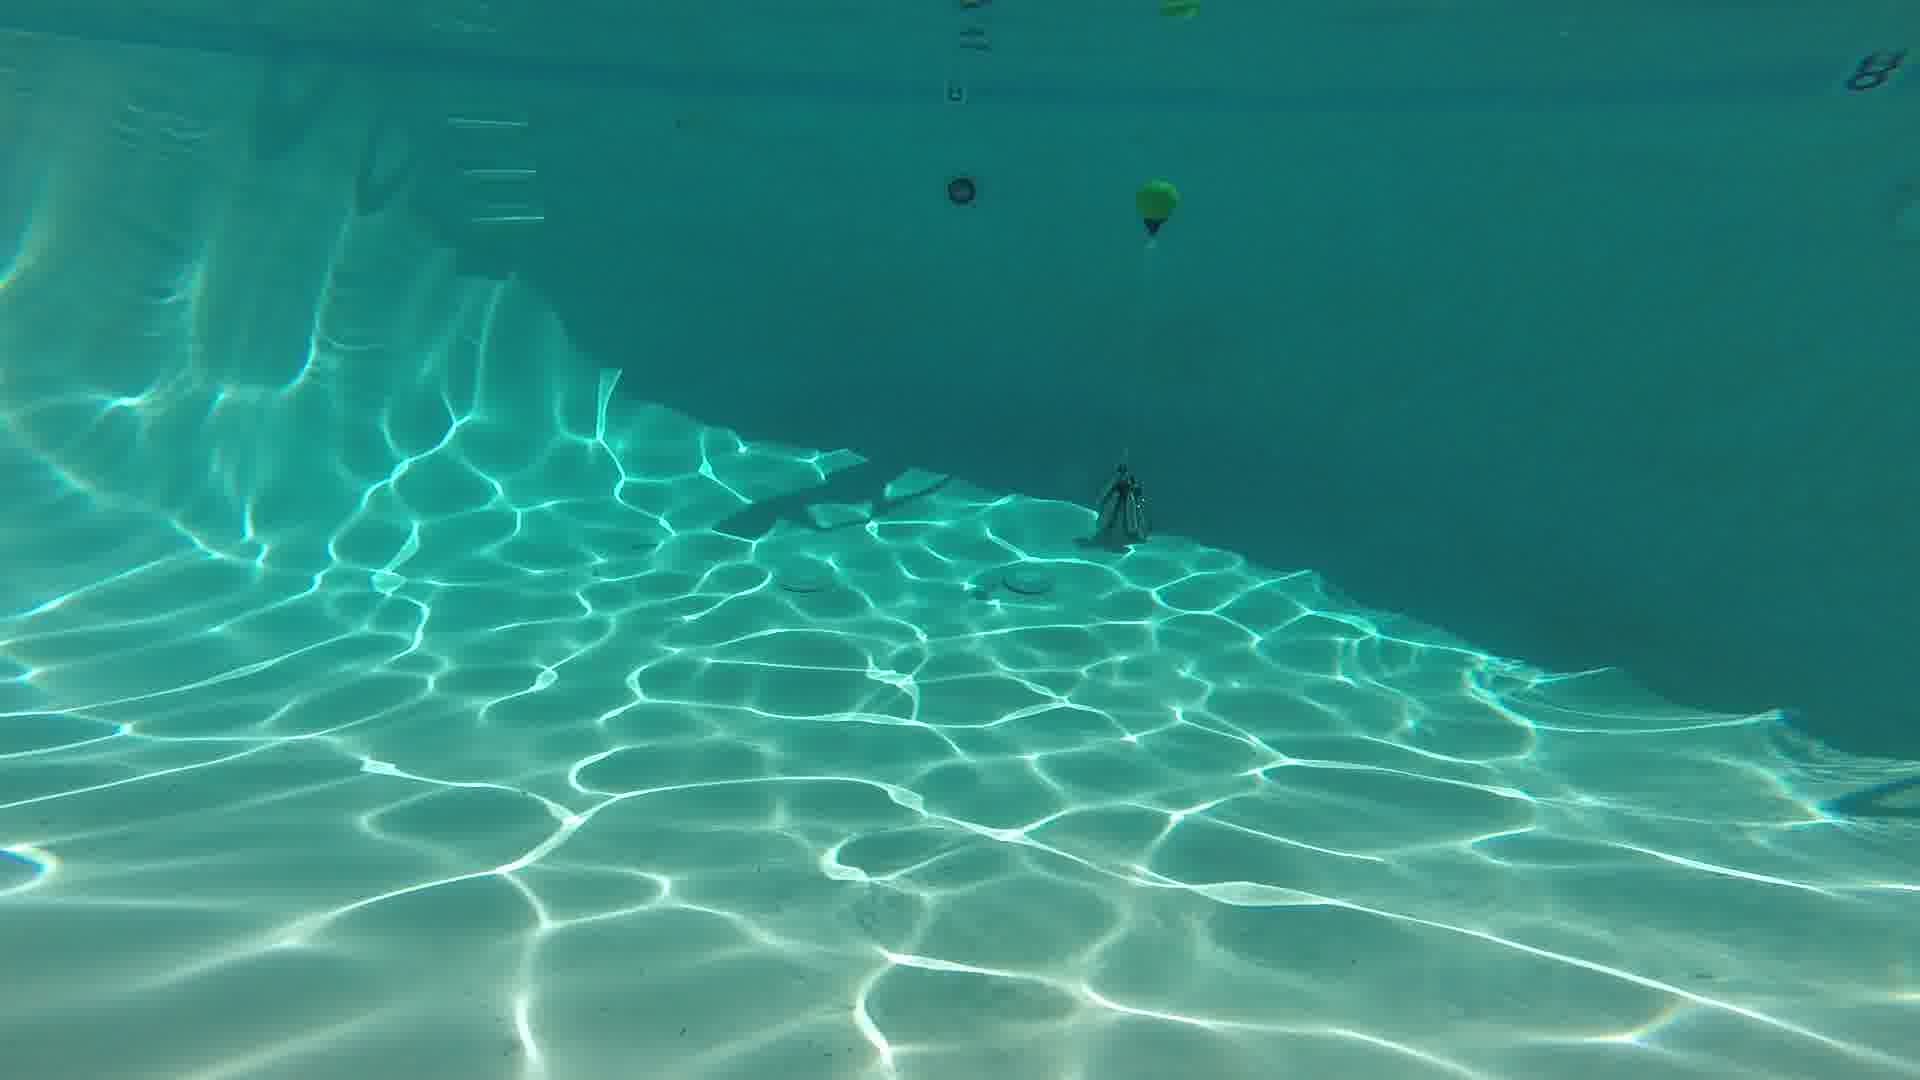yellow_buoy: (1138, 179, 1174, 236)
